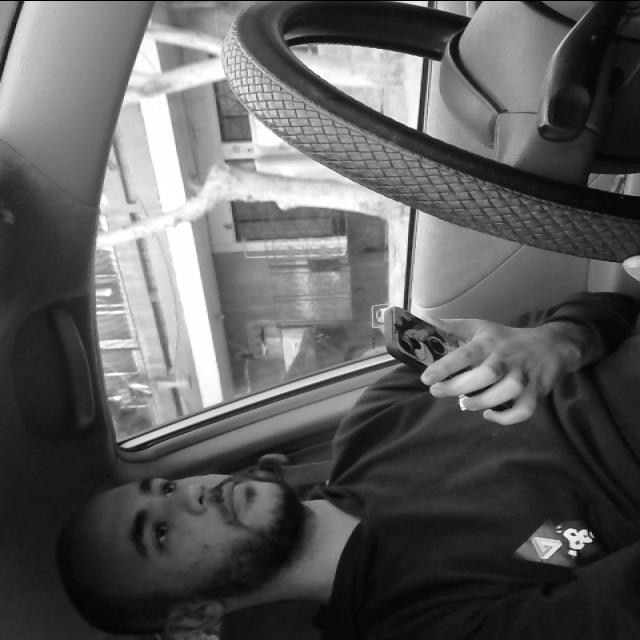mobile use: (378, 304, 536, 419)
